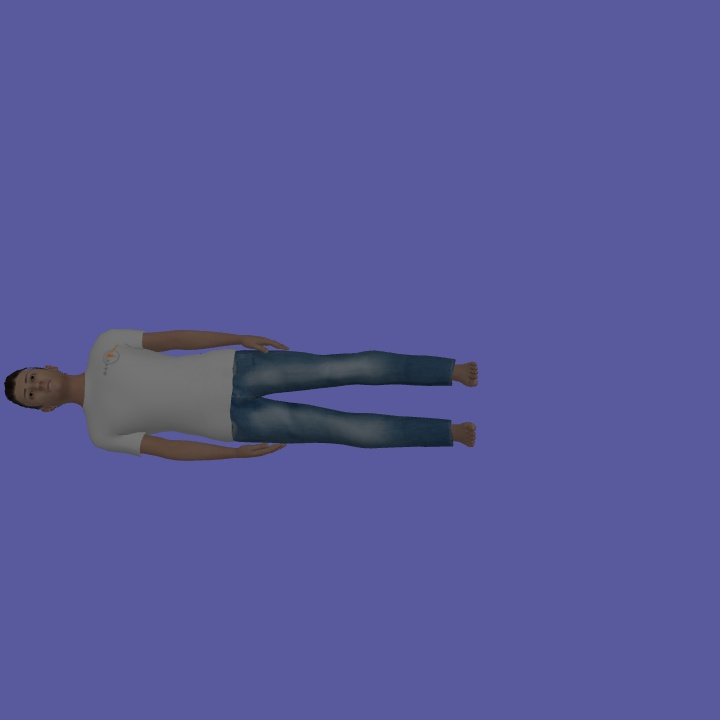victim: (1, 321, 478, 464)
